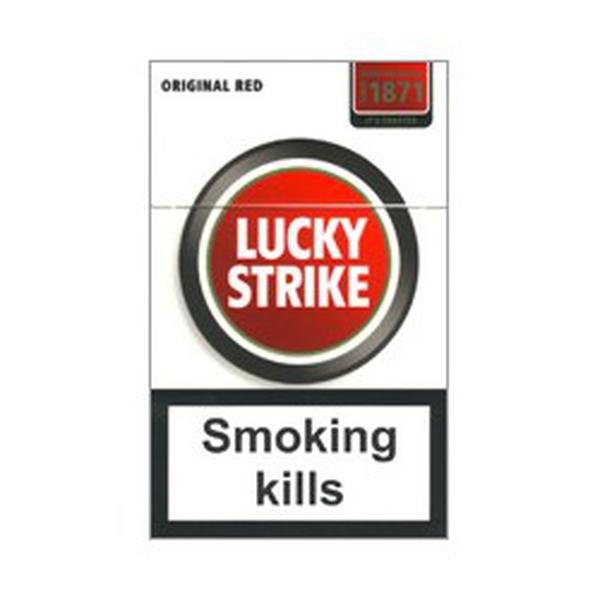lucky_strike_red: (152, 64, 447, 537)
